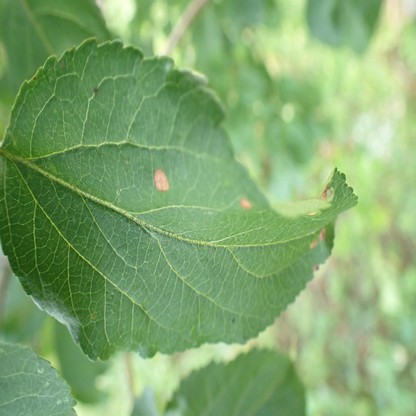frogeye_leaf_spot: (154, 168, 169, 191), (310, 227, 326, 247), (317, 184, 331, 199), (240, 198, 254, 210)
